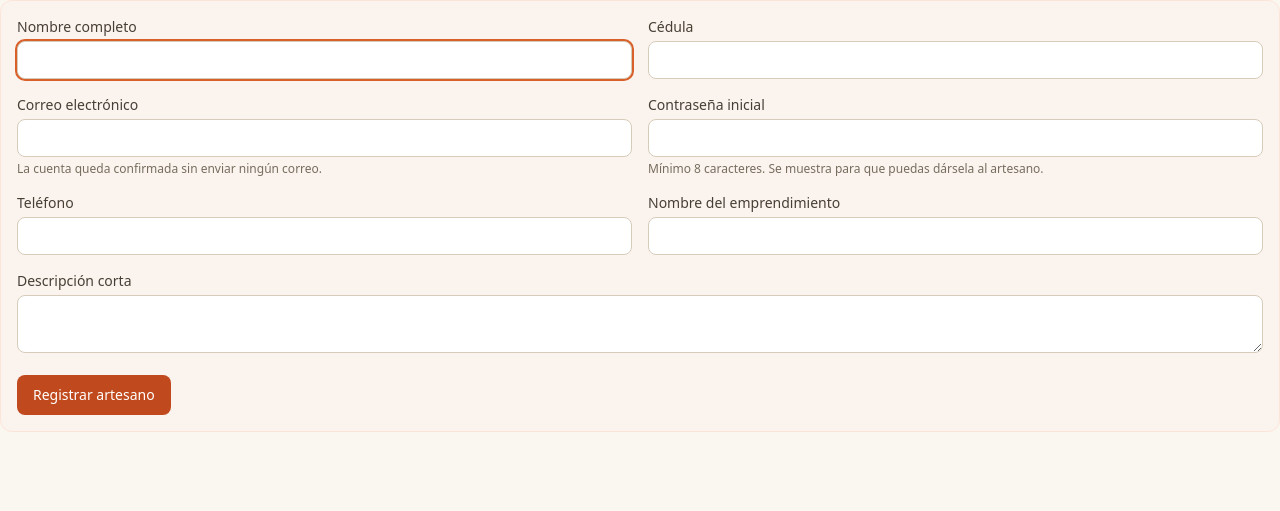
Scenario: RegistrarArtesanoAdmin › si falla, muestra el error y conserva lo escrito
Type "Ana Gómez" into the field labelled "Nombre completo" at (324, 60), box x1=17 y1=41 x2=632 y2=79
Type "1010" into the field labelled "Cédula" at (956, 60), box x1=648 y1=41 x2=1263 y2=79
Type "ana@correo.com" into the field labelled "Correo electrónico" at (324, 138), box x1=17 y1=119 x2=632 y2=157
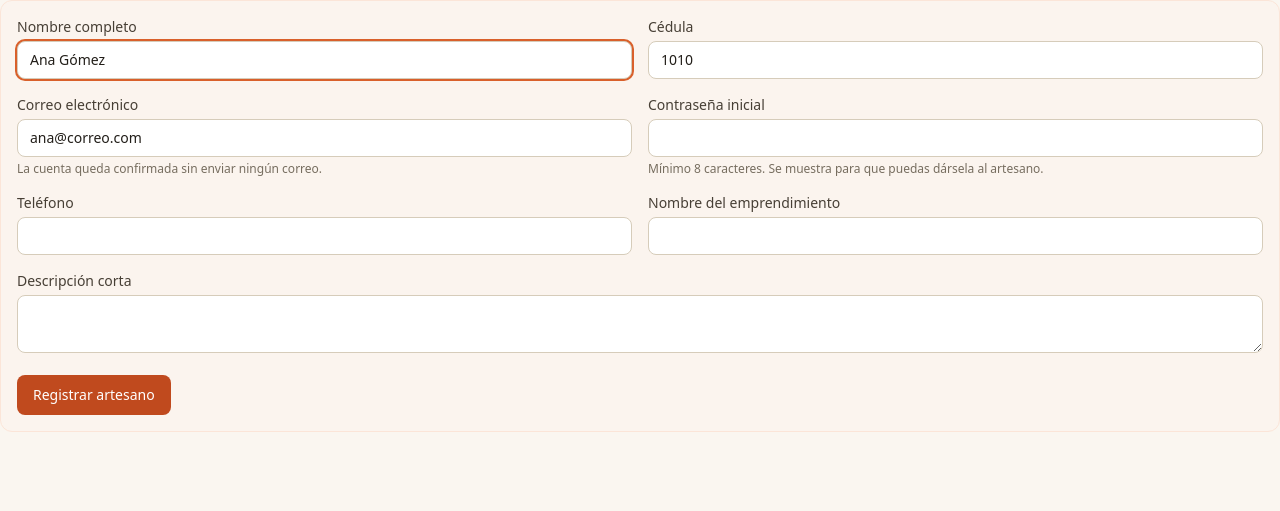
Type "Segura1234" into the field labelled "Contraseña inicial" at (956, 138), box x1=648 y1=119 x2=1263 y2=157
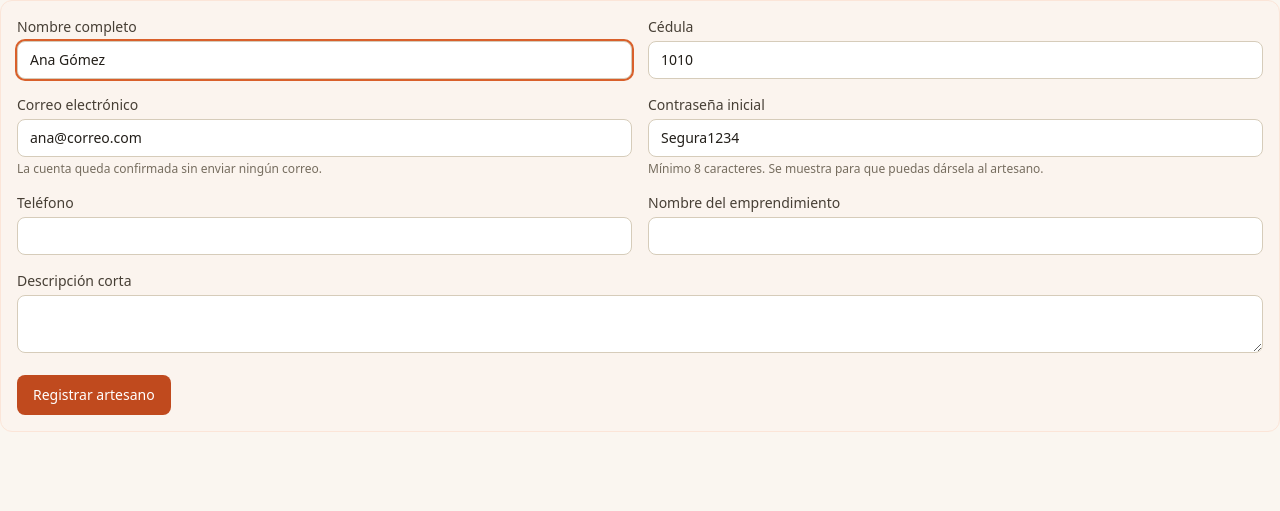
Type "300" into the field labelled "Teléfono" at (324, 236), box x1=17 y1=217 x2=632 y2=255
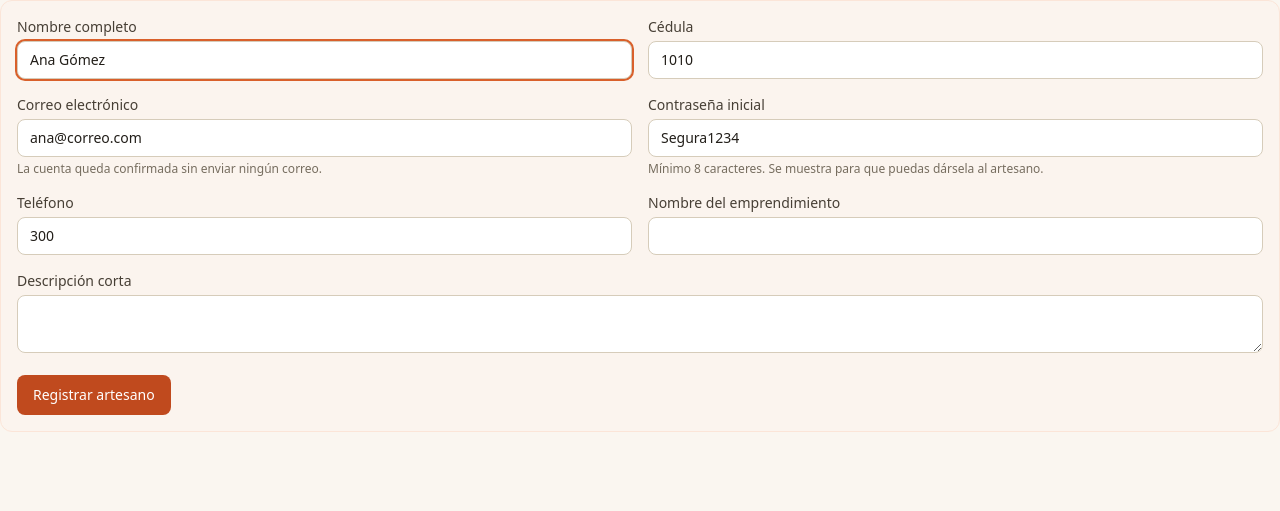
Type "Cerámicas Ana" into the field labelled "Nombre del emprendimiento" at (956, 236), box x1=648 y1=217 x2=1263 y2=255
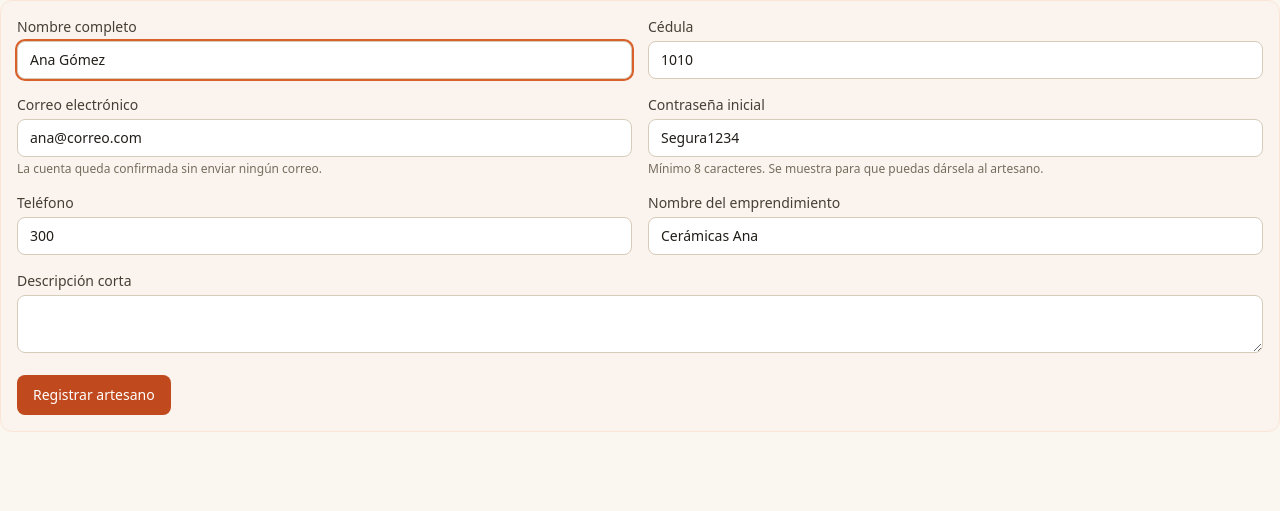
Type "Vasijas" into the text box labelled "Descripción corta" at (640, 324), box x1=17 y1=295 x2=1263 y2=353
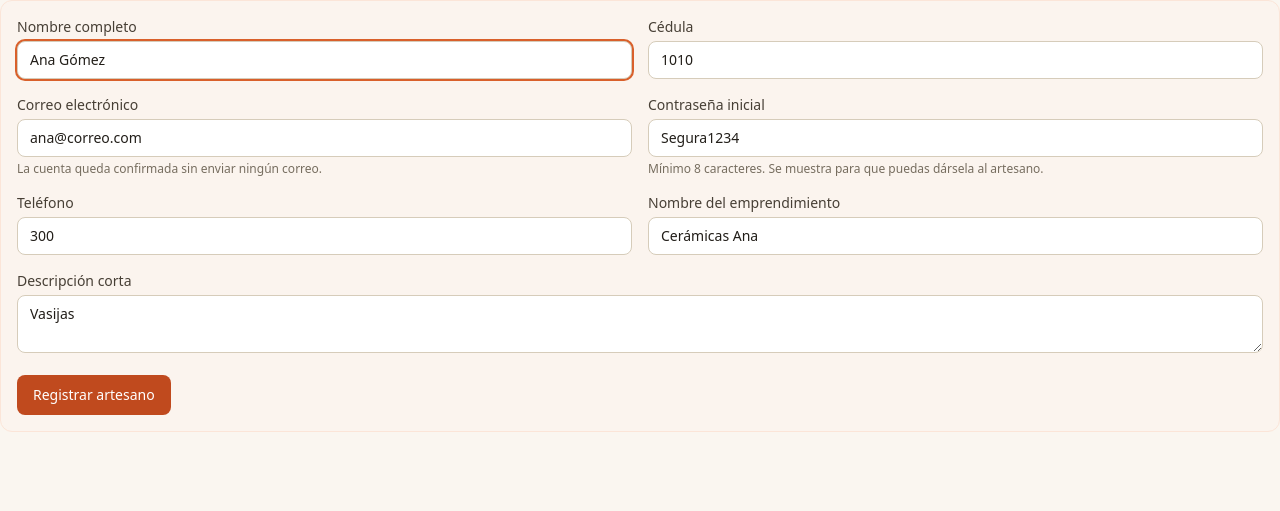
Click the button "Registrar artesano" at (94, 395), box x1=17 y1=375 x2=171 y2=415
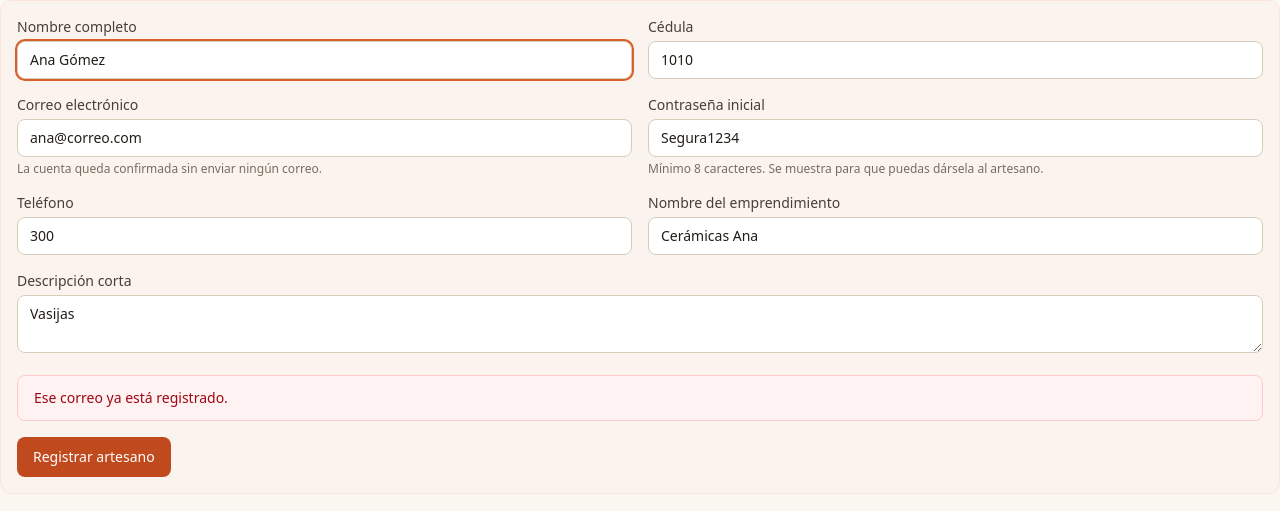
Expected: the button "Registrar artesano" is enabled, x1=17 y1=437 x2=171 y2=477
Expected: the message reads "Ese correo ya está registrado.", x1=34 y1=388 x2=228 y2=407
